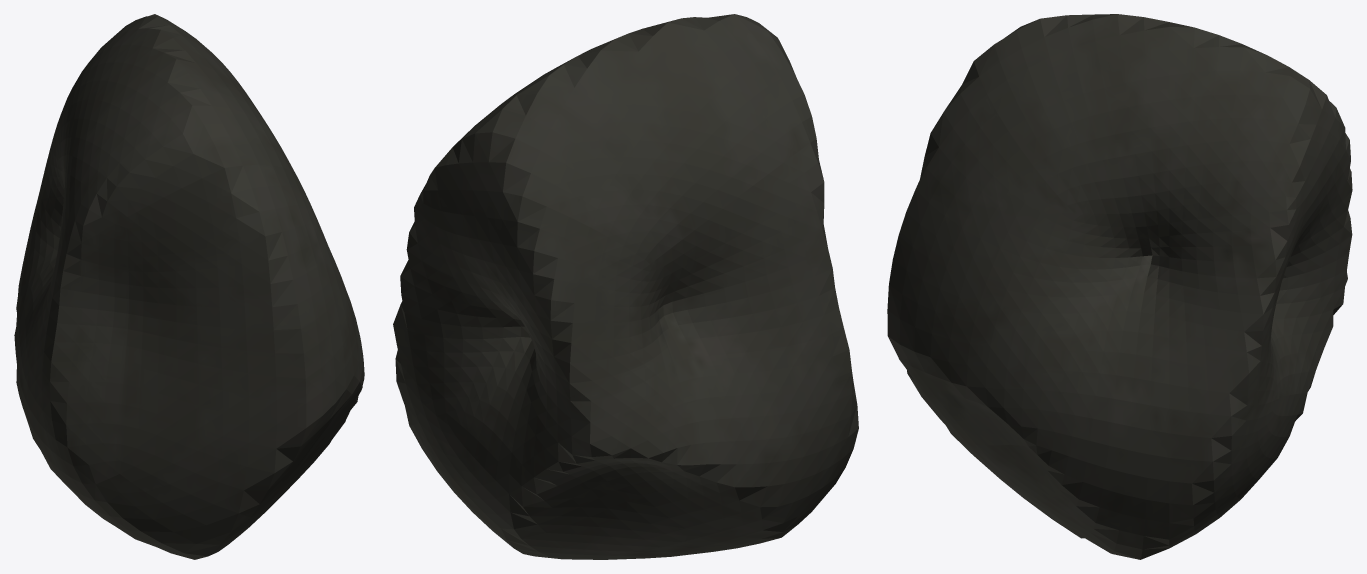
Rendered from rocks-grey_3.fbx.
3 views of the same model, side by side, from view 1: azimuth 30°, elevation 25°; view 2: azimuth 150°, elevation 25°; view 3: azimuth 270°, elevation 25° (orthographic). The views are drawn at different scales.
Parts seen in each view (by area): view 1: Cube.026; view 2: Cube.026; view 3: Cube.026.
Part boxes in pixels (<box>): Cube.026: <box>14,14,364,559</box>; Cube.026: <box>393,14,858,559</box>; Cube.026: <box>887,14,1352,559</box>.
Size of the model in its own units: 133 by 188 by 157.
